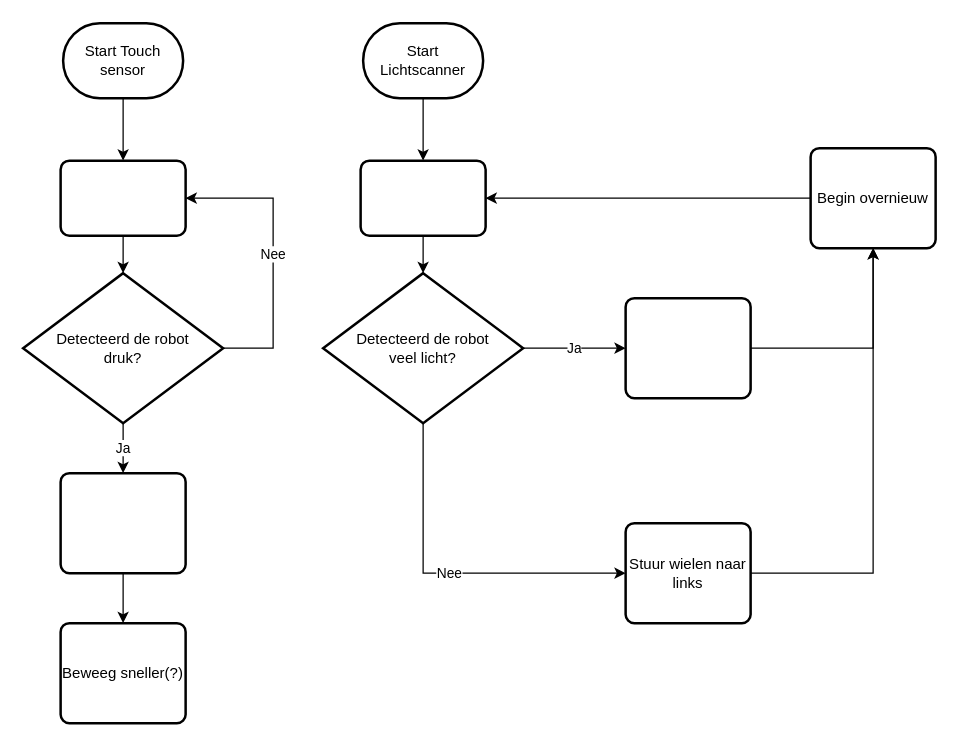
Image size: 958x745. Some labels were removed from this diagram. The centre of each missing label's shape, as x and y in pixels:
"Beweeg arm" goes at (x=122, y=522).
"Beweeg-process" goes at (x=422, y=197).
"Stuur wielen naar rechts" goes at (x=687, y=347).
"Touch-process" goes at (x=122, y=197).
